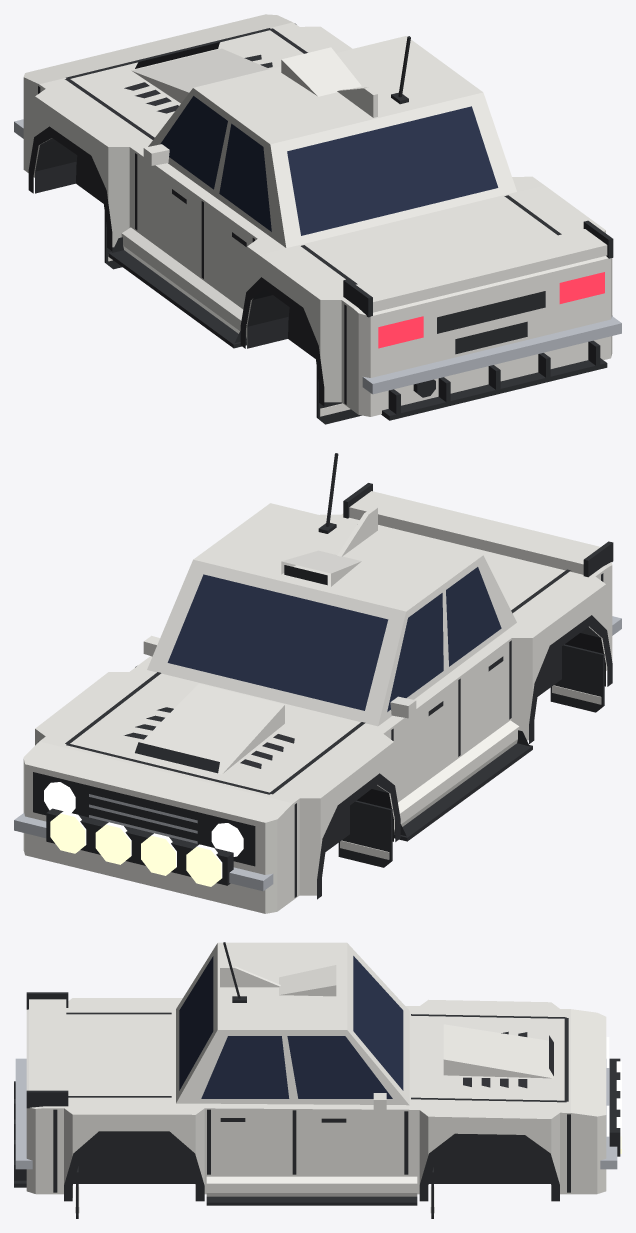
The model's file is Yama.glb.
3 renders of one model, top to bottom at view 1: azimuth 30°, elevation 25°; view 2: azimuth 150°, elevation 25°; view 3: azimuth 270°, elevation 25°, orthographic. The views are drawn at different scales.
Parts seen in each view (by area): view 1: RearWindow, BumperRear, Trunk, Roof, Pillars, Hood, Opt_Wing_Rally_WingBlade, Door_FL, BumperFront, Fender_RL, Bumper, Fender_FL (+24 smaller); view 2: Windshield, Hood, BumperFront, Roof, Pillars, Opt_Wing_Rally_WingBlade, Opt_Hood_Scoop_HoodScoop, Trunk, Grille, Door_FL, Opt_Bumper_Lamps_RallyLamp, Fender_FL (+26 smaller); view 3: Hood, Trunk, Roof, WheelWell, Pillars, Door_FR, BumperFront, Door_RR, Fender_FR, Opt_Hood_Scoop_HoodScoop, Fender_RR, Window_FR (+20 smaller).
Boxes of the visible parts, <box> form: RearWindow: <box>287,106,498,235</box>; BumperRear: <box>348,256,612,416</box>; Trunk: <box>259,185,605,304</box>; Roof: <box>193,36,482,144</box>; Pillars: <box>148,88,516,247</box>; Hood: <box>35,22,352,151</box>; Opt_Wing_Rally_WingBlade: <box>356,229,607,312</box>; Door_FL: <box>136,151,203,280</box>; BumperFront: <box>23,14,292,177</box>; Fender_RL: <box>247,238,347,406</box>; Bumper: <box>14,119,621,394</box>; Fender_FL: <box>35,84,135,247</box>; Windshield: <box>167,574,388,710</box>; Hood: <box>35,667,393,803</box>; BumperFront: <box>23,741,292,913</box>; Roof: <box>193,503,482,611</box>; Pillars: <box>147,555,516,726</box>; Opt_Wing_Rally_WingBlade: <box>349,491,600,574</box>; Opt_Hood_Scoop_HoodScoop: <box>131,683,284,774</box>; Trunk: <box>320,513,605,628</box>; Grille: <box>33,772,255,866</box>; Door_FL: <box>390,678,457,802</box>; Opt_Bumper_Lamps_RallyLamp: <box>50,811,222,886</box>; Fender_FL: <box>293,729,393,899</box>; Hood: <box>408,999,570,1118</box>; Trunk: <box>53,998,175,1114</box>; Roof: <box>217,942,347,1029</box>; WheelWell: <box>73,1139,550,1183</box>; Pillars: <box>176,943,409,1105</box>; Door_FR: <box>294,1109,408,1176</box>; BumperFront: <box>571,1009,606,1194</box>; Door_RR: <box>206,1108,294,1176</box>; Fender_FR: <box>408,1110,570,1194</box>; Opt_Hood_Scoop_HoodScoop: <box>443,1024,553,1078</box>; Fender_RR: <box>53,1108,206,1197</box>; Window_FR: <box>287,1036,392,1098</box>.
Bounding box in the file's own units: 6.6 × 5.92 × 13.85.
